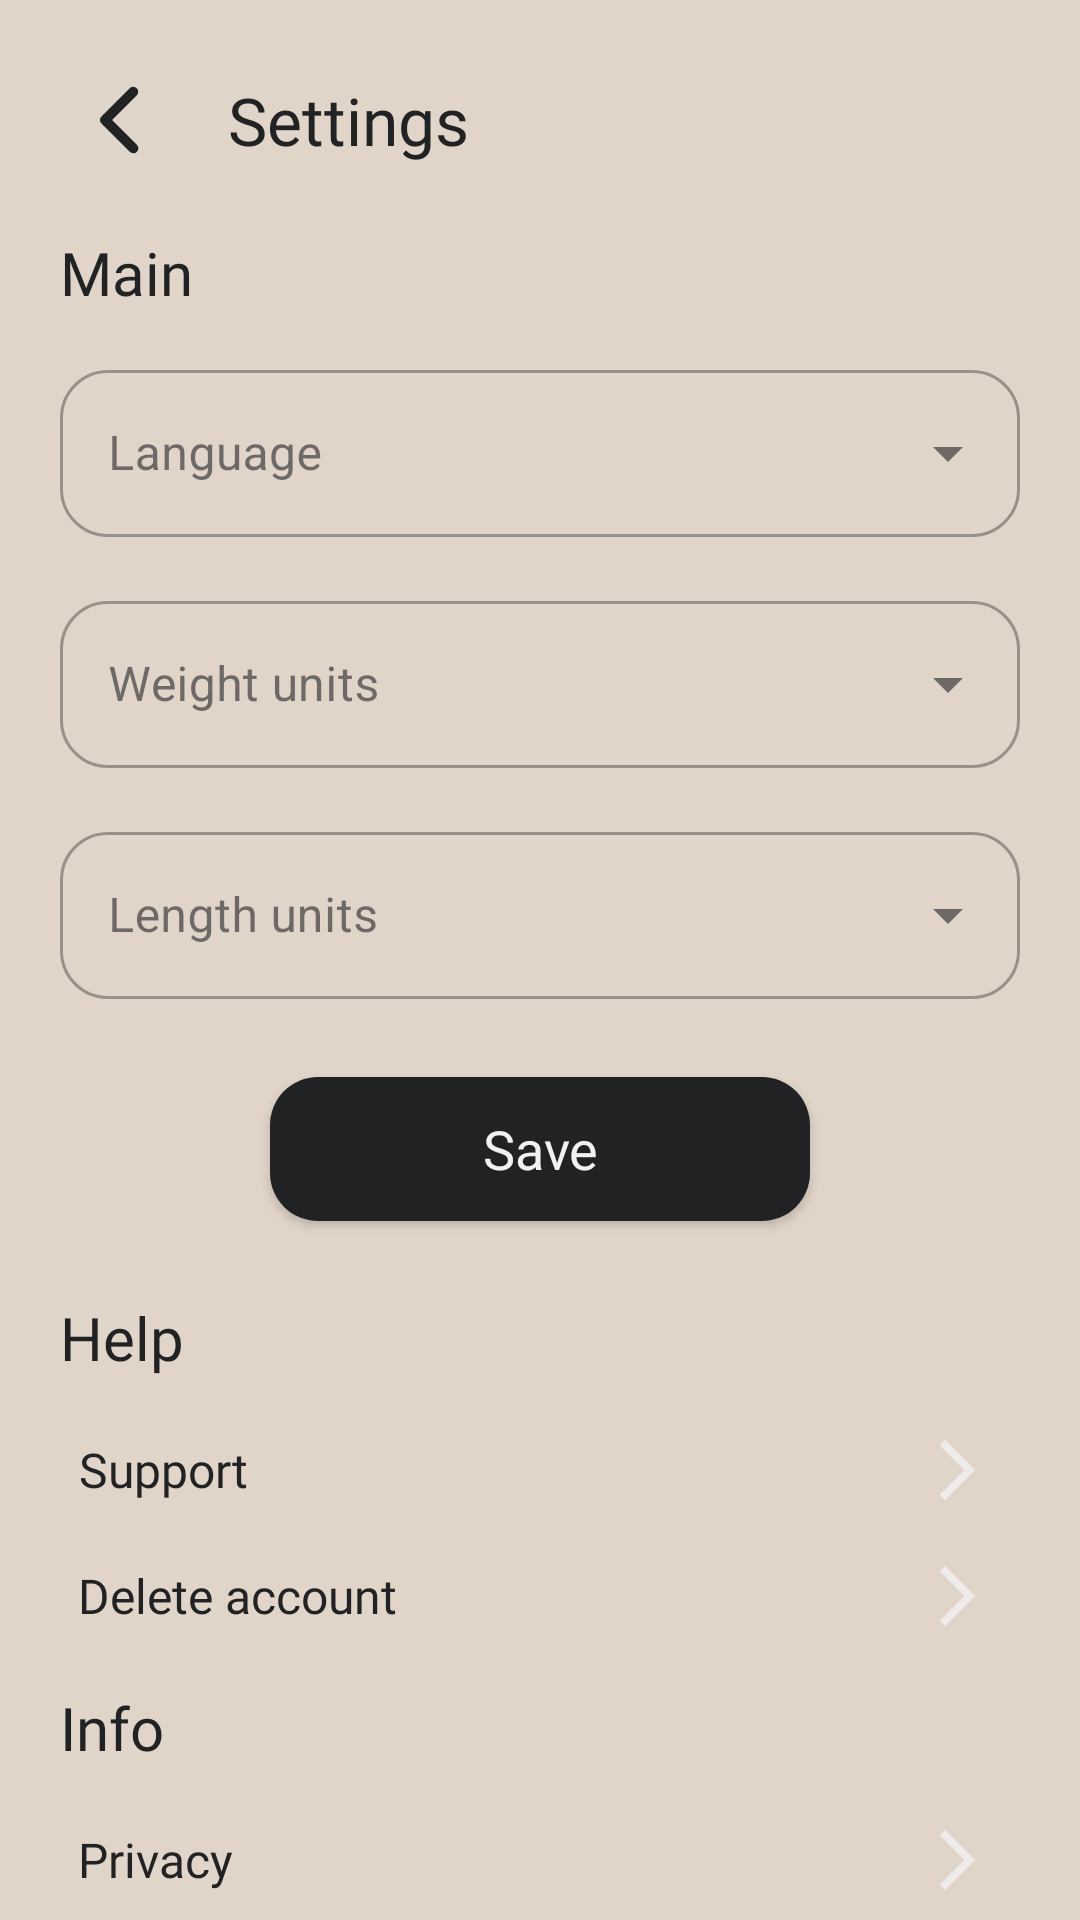

Named icons in this screenshot (1080x1920) and their centers, (x=x, y=y):
arrow left: (x=119, y=120)
arrow right: (x=957, y=1470), (x=957, y=1596), (x=957, y=1860)
